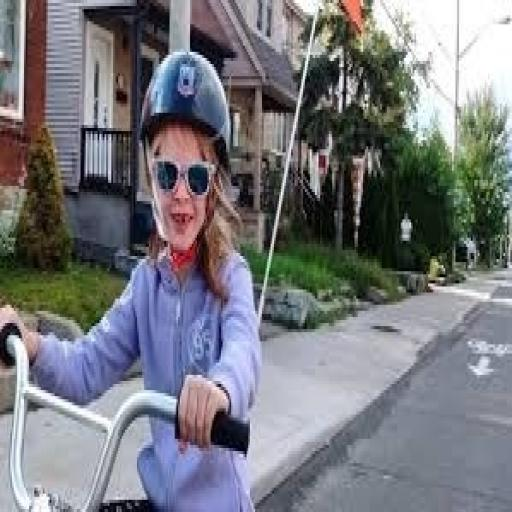cycling: (2, 46, 264, 509)
